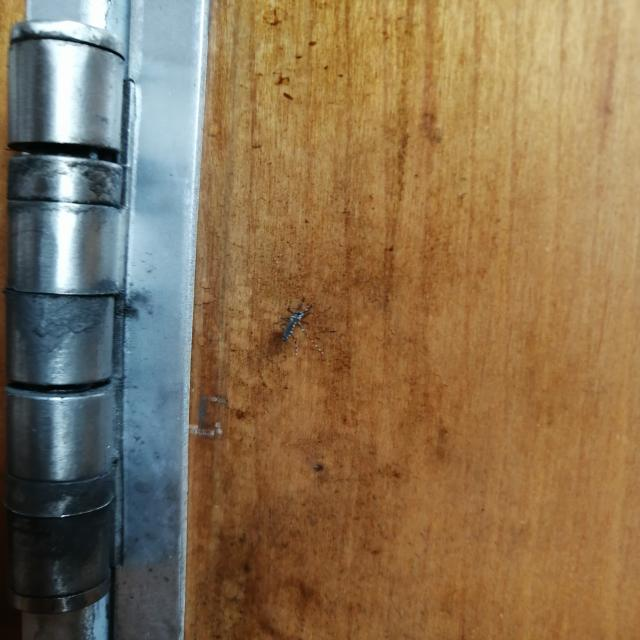albopictus: (262, 295, 344, 355)
